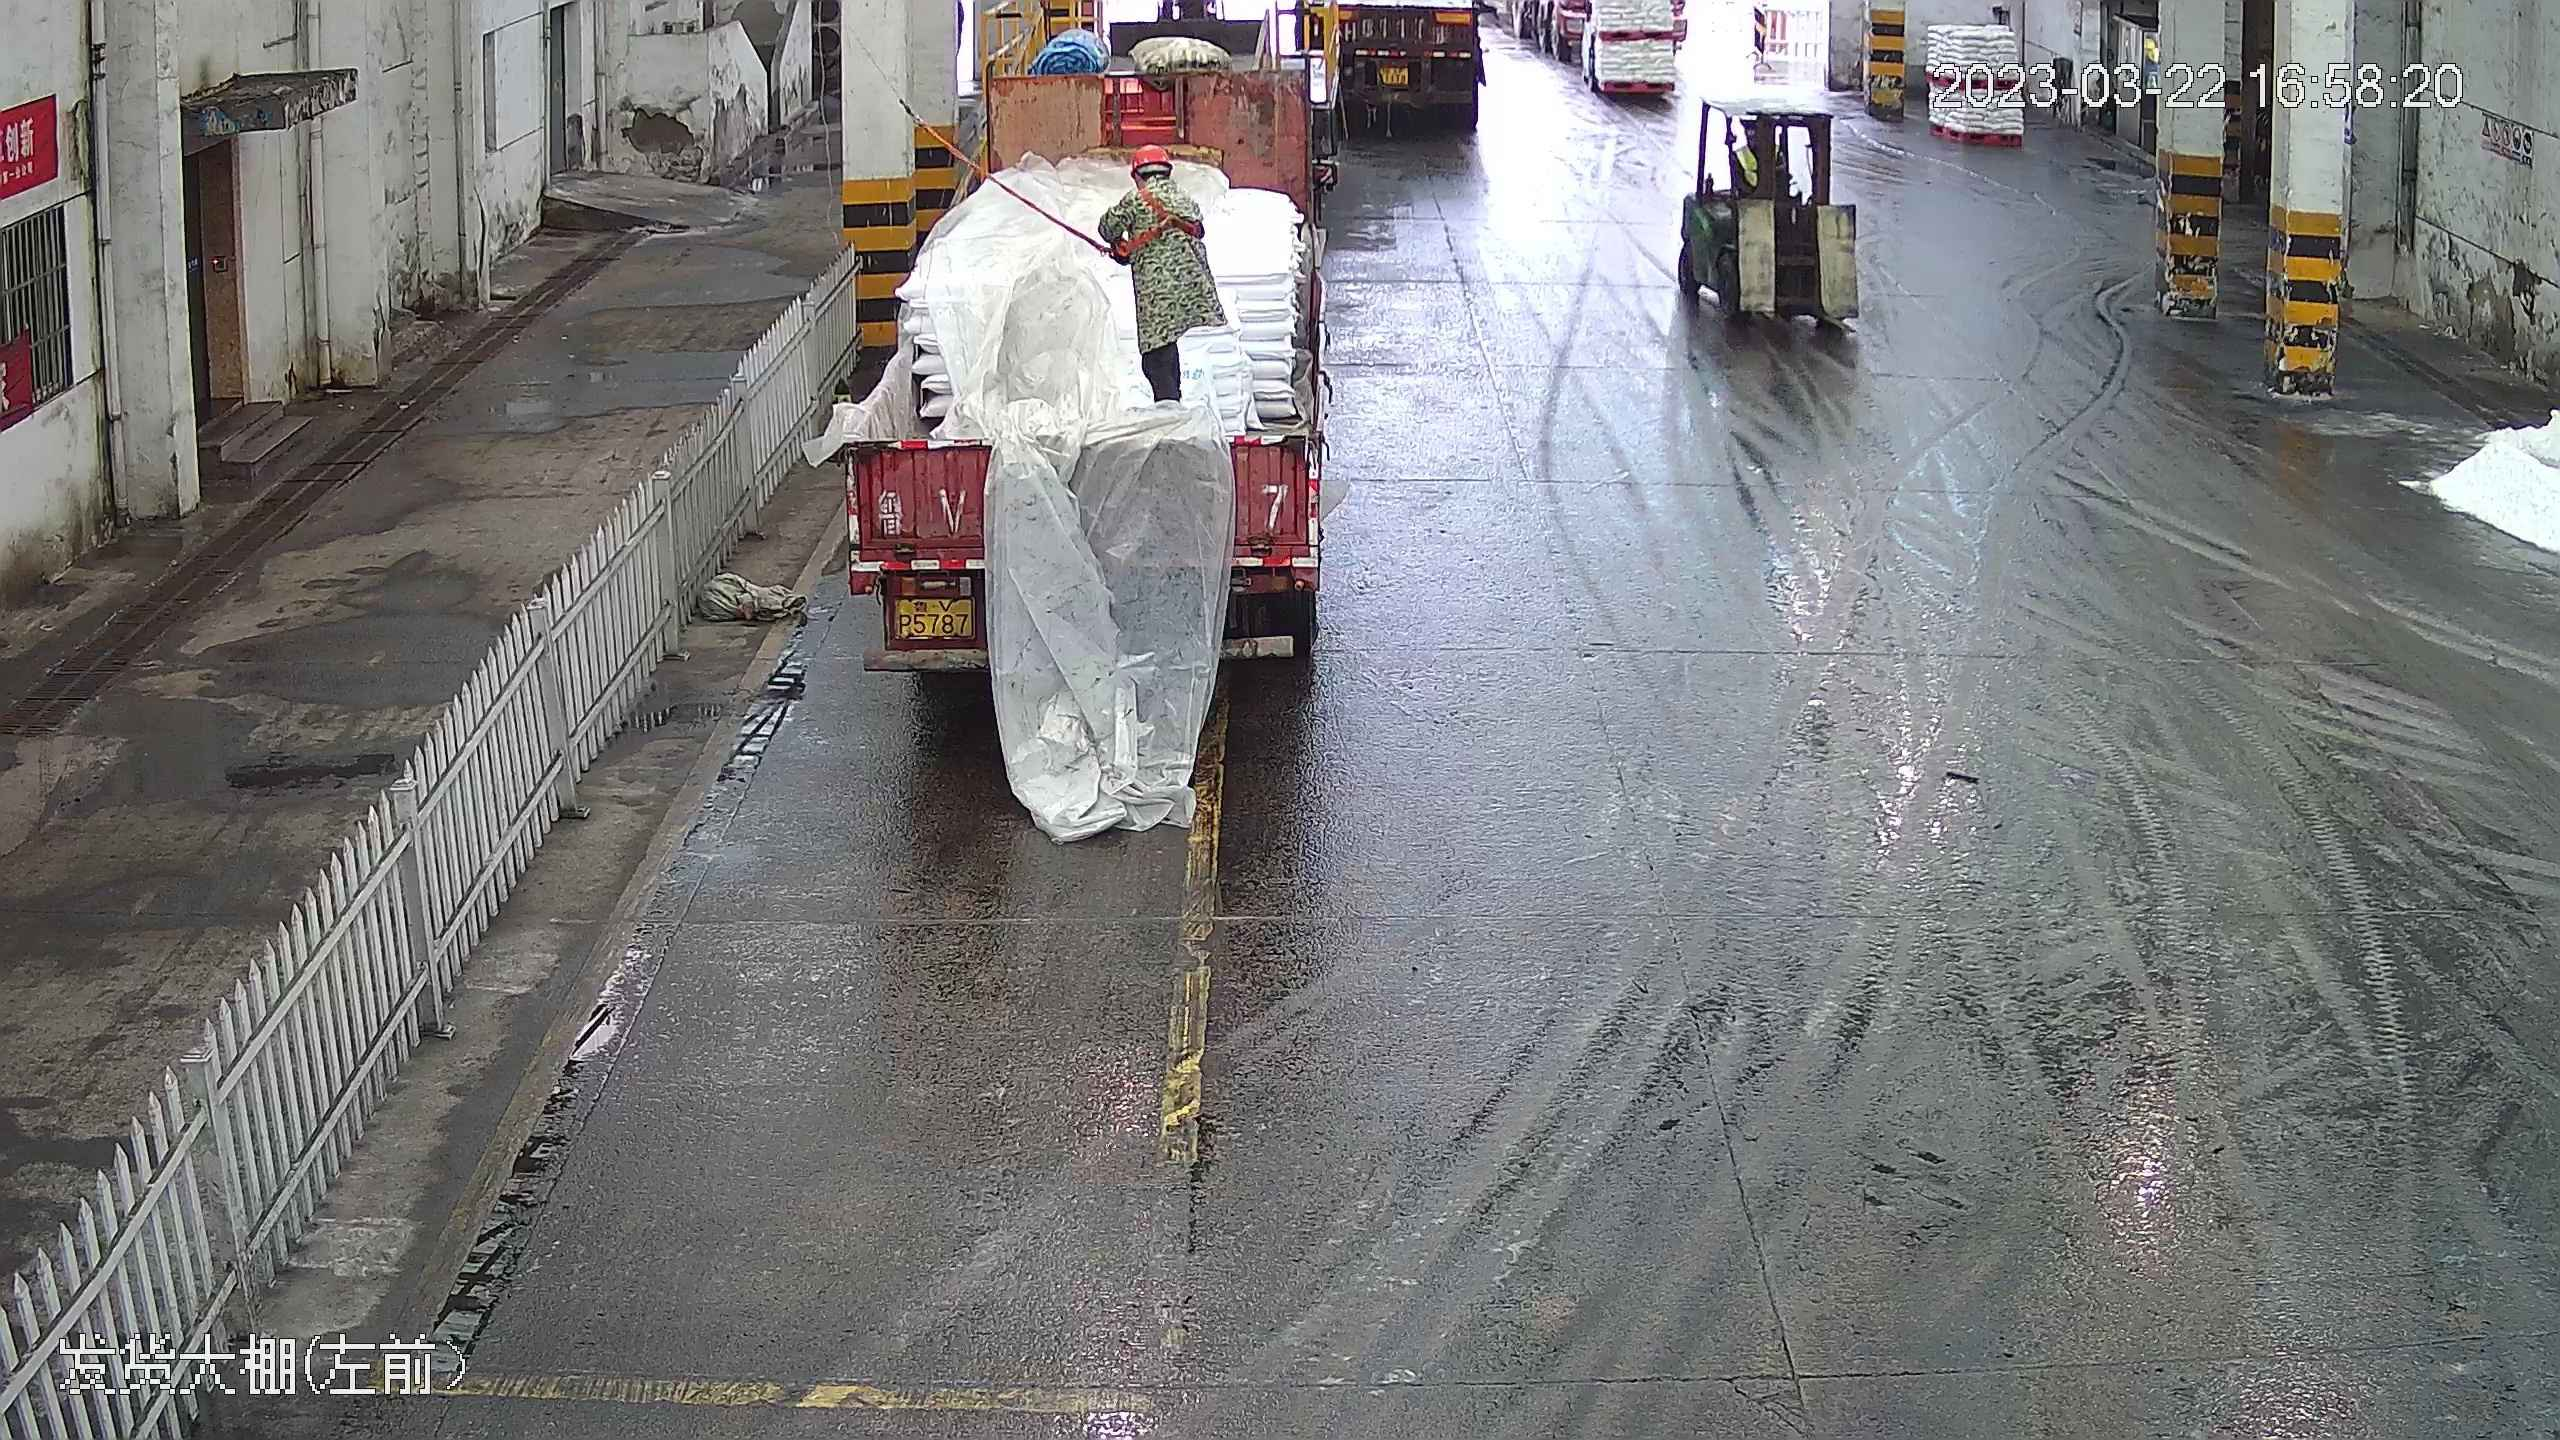belt: (1119, 186, 1200, 257)
head: (1109, 145, 1203, 228)
people: (1099, 144, 1221, 413)
truck: (833, 15, 1344, 694)
